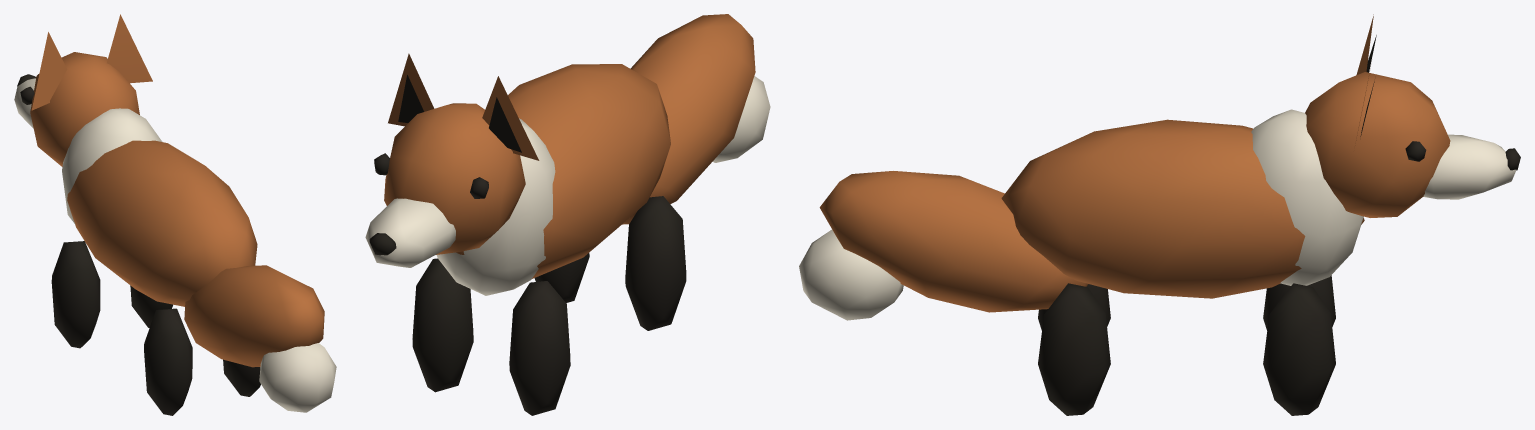
Rendered from fox.glb.
3 views of the same model, side by side, from view 1: azimuth 30°, elevation 25°; view 2: azimuth 150°, elevation 25°; view 3: azimuth 270°, elevation 25° (orthographic). The views are drawn at different scales.
Parts seen in each view (by area): view 1: fox torso, chest, foot, foot.002, foot.003, foot.001, nose; view 2: fox torso, chest, foot, foot.002, foot.001, nose, foot.003; view 3: fox torso, chest, foot.001, foot.003, foot, nose.
Boxes of the visible parts, bbox=[...] form: fox torso: bbox=[30, 14, 324, 367]; chest: bbox=[14, 78, 336, 412]; foot: bbox=[51, 241, 100, 348]; foot.002: bbox=[144, 308, 192, 415]; foot.003: bbox=[223, 359, 260, 396]; foot.001: bbox=[130, 285, 172, 327]; nose: bbox=[17, 74, 36, 104]; fox torso: bbox=[384, 14, 755, 278]; chest: bbox=[365, 76, 770, 295]; foot: bbox=[509, 281, 570, 415]; foot.002: bbox=[625, 196, 686, 330]; foot.001: bbox=[412, 258, 473, 392]; nose: bbox=[369, 75, 521, 255]; foot.003: bbox=[534, 253, 589, 302]; fox torso: bbox=[819, 14, 1450, 312]; chest: bbox=[799, 109, 1516, 320]; foot.001: bbox=[1263, 283, 1335, 415]; foot.003: bbox=[1038, 283, 1110, 415]; foot: bbox=[1263, 275, 1335, 330]; nose: bbox=[1360, 35, 1520, 170].
Bounding box in the file's own units: 0.4401 × 1.01 × 1.86.
